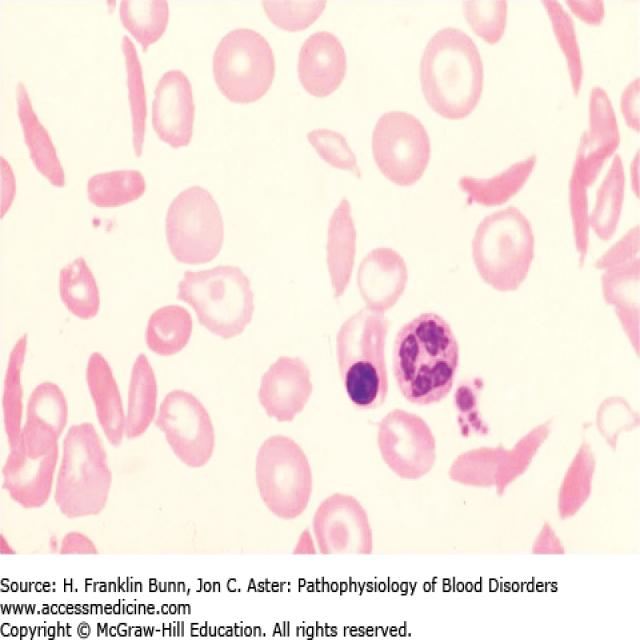WBC: (389, 308, 464, 407)
sickle cell: (489, 407, 560, 512), (13, 75, 74, 195), (455, 149, 544, 215), (112, 36, 157, 163), (315, 192, 360, 308), (1, 320, 35, 467), (561, 130, 592, 274)
